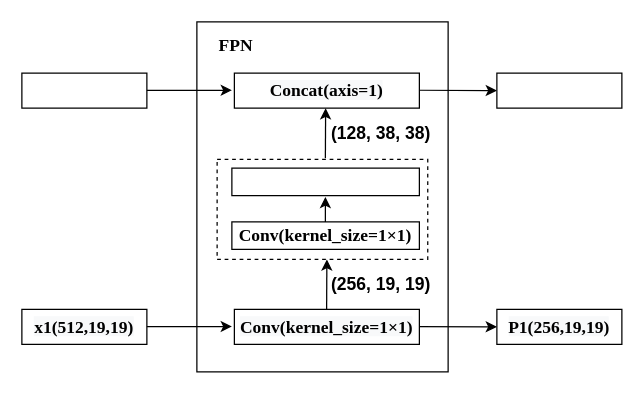
Some shapes in this 644 by 394 pixel diagram are drawn without their labels. Here are the shapes that lost their labels. From the top down, the centre of each, then its label:
At (84,90): "x2(256,38,38)".
At (559,90): "P2(384,38,38)".
At (325,181): "Upsample(scale_factor=2)".
